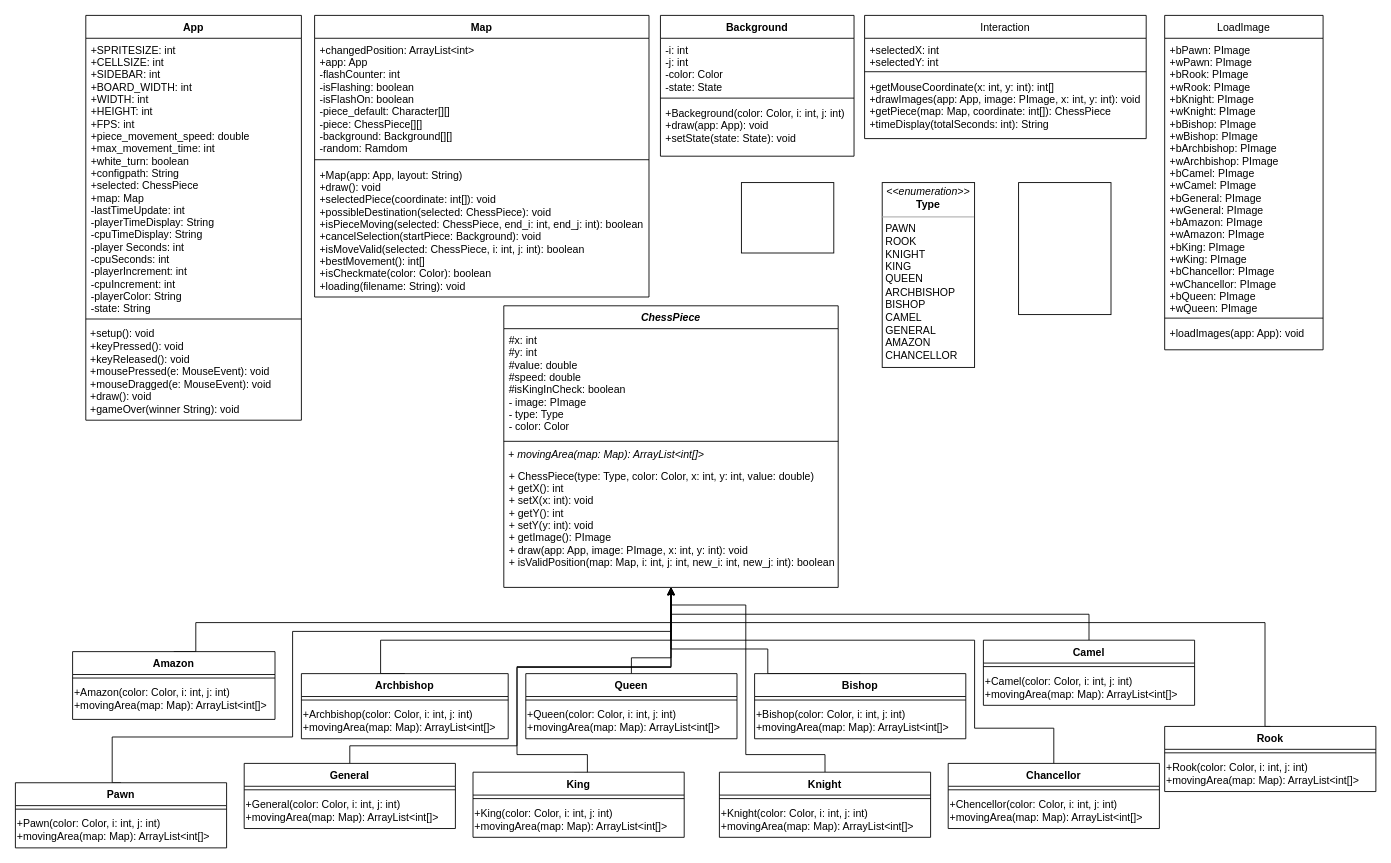
Some shapes in this 1391 by 863 pixel diagram are drawn without their labels. The centre of each missing label's shape, as x and y in pixels:
<<enumeration>> Color BLACK WHITE: point (787, 217)
<<enumeration>> State REGULAR HIGHLIGHTED CAPTURED SELECTED CHECK_MATE MOVING: point (1064, 248)
